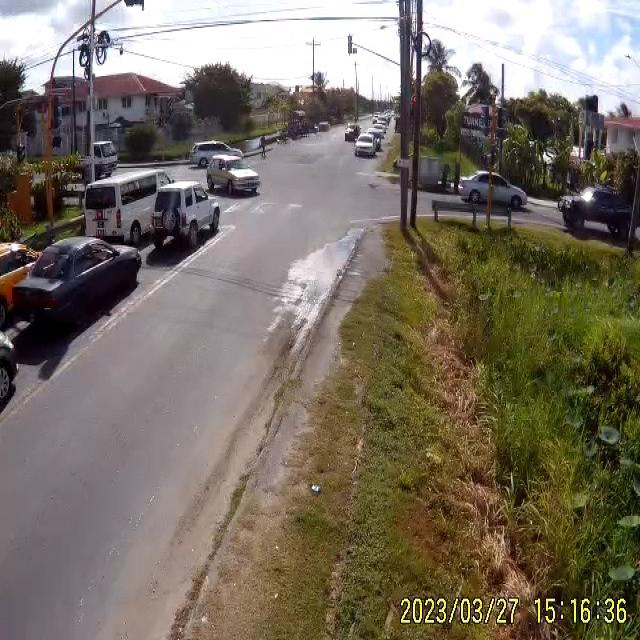car: (4, 235, 142, 340), (82, 163, 159, 250), (149, 182, 226, 251), (559, 187, 638, 241), (459, 171, 530, 209), (207, 163, 259, 198), (192, 142, 242, 170), (356, 134, 377, 156)
truck: (88, 142, 120, 182)
